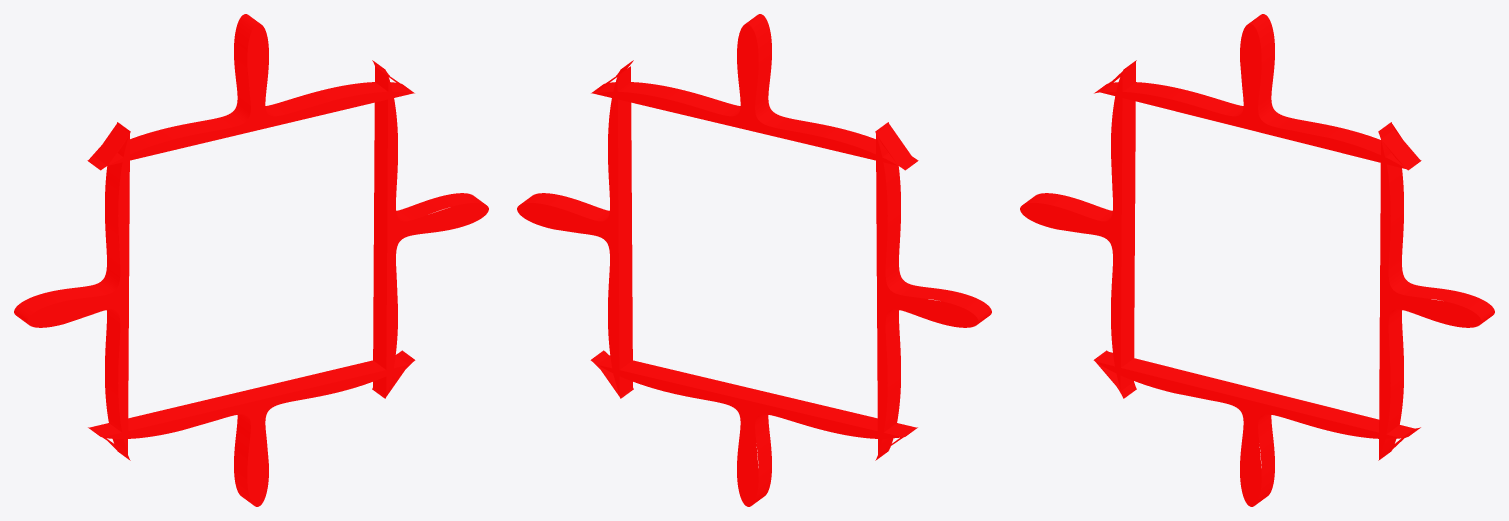
File: Board.glb
The picture shows the model from 3 angles, left to right: view 1: azimuth 30°, elevation 25°; view 2: azimuth 150°, elevation 25°; view 3: azimuth 330°, elevation 25°; orthographic projection.
Size of the model in its own units: 1 by 1 by 0.05.
